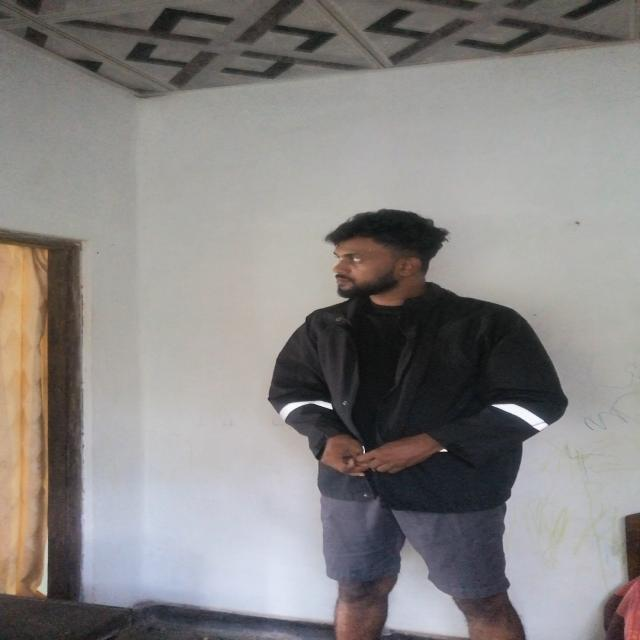Jacket_Wearer: (253, 291, 600, 520)
